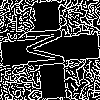M: (25, 25, 74, 70)
